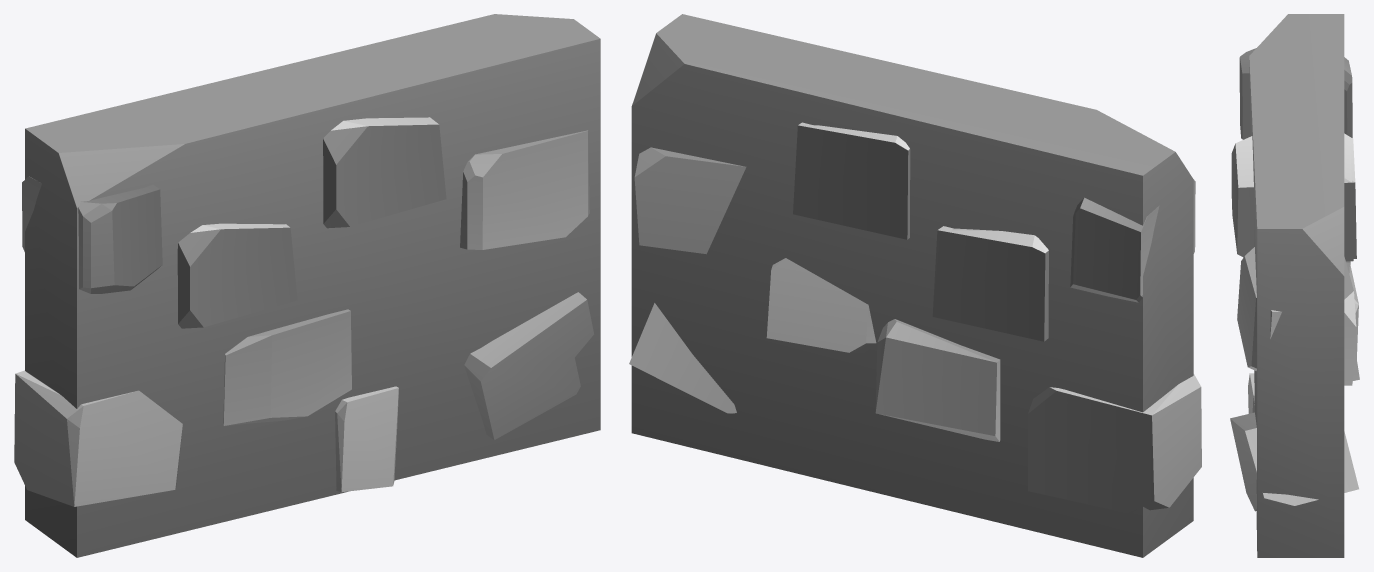
File: SM_Stone_Wall.fbx
3 renders of one model, left to right at view 1: azimuth 30°, elevation 25°; view 2: azimuth 150°, elevation 25°; view 3: azimuth 270°, elevation 25°, orthographic. The views are drawn at different scales.
Parts seen in each view (by area): view 1: Stone_Wall, Stone_Inside_wall; view 2: Stone_Wall, Stone_Inside_wall; view 3: Stone_Wall, Stone_Inside_wall.
Part boxes in pixels (<box>): Stone_Wall: <box>25,14,600,557</box>; Stone_Inside_wall: <box>14,117,593,506</box>; Stone_Wall: <box>631,14,1193,557</box>; Stone_Inside_wall: <box>629,122,1201,512</box>; Stone_Wall: <box>1249,14,1344,557</box>; Stone_Inside_wall: <box>1230,48,1359,511</box>.
Bounding box in the file's own units: 3.61 × 2.53 × 0.8947.
